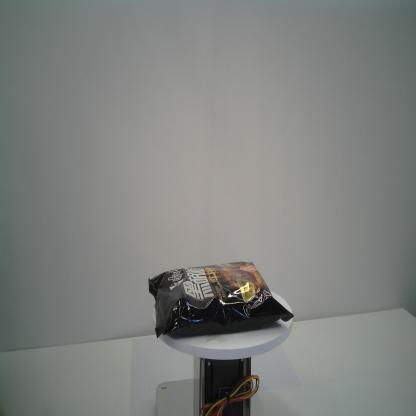Instant Noodles: (148, 259, 295, 340)
